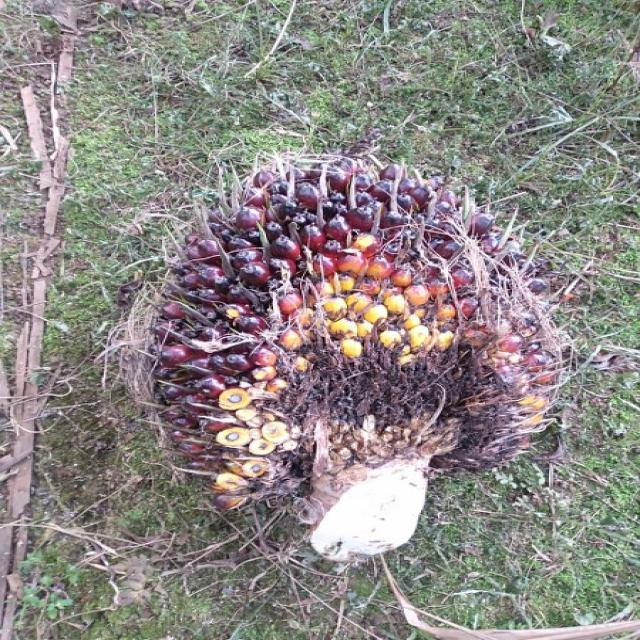fraksi 1: (76, 105, 589, 575)
